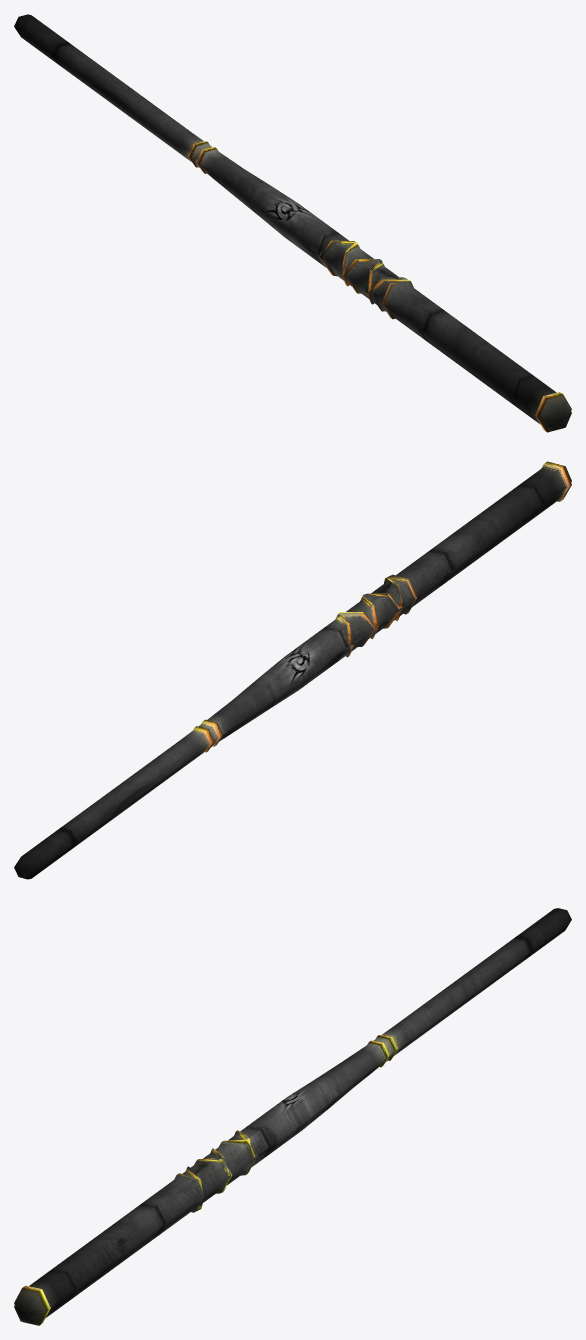
File: Wand_05.fbx
3 renders of one model, top to bottom at view 1: azimuth 30°, elevation 25°; view 2: azimuth 150°, elevation 25°; view 3: azimuth 330°, elevation 25°, orthographic.
Visible parts, largest first — view 1: Cápsula_1; view 2: Cápsula_1; view 3: Cápsula_1.
Part boxes in pixels (left/top/right/bottom): Cápsula_1: left=14, top=14, right=571, bottom=432; Cápsula_1: left=14, top=461, right=571, bottom=879; Cápsula_1: left=14, top=908, right=571, bottom=1325.
Bounding box in the file's own units: 15.71 × 16.5 × 439.
1 material, 1 textured.
